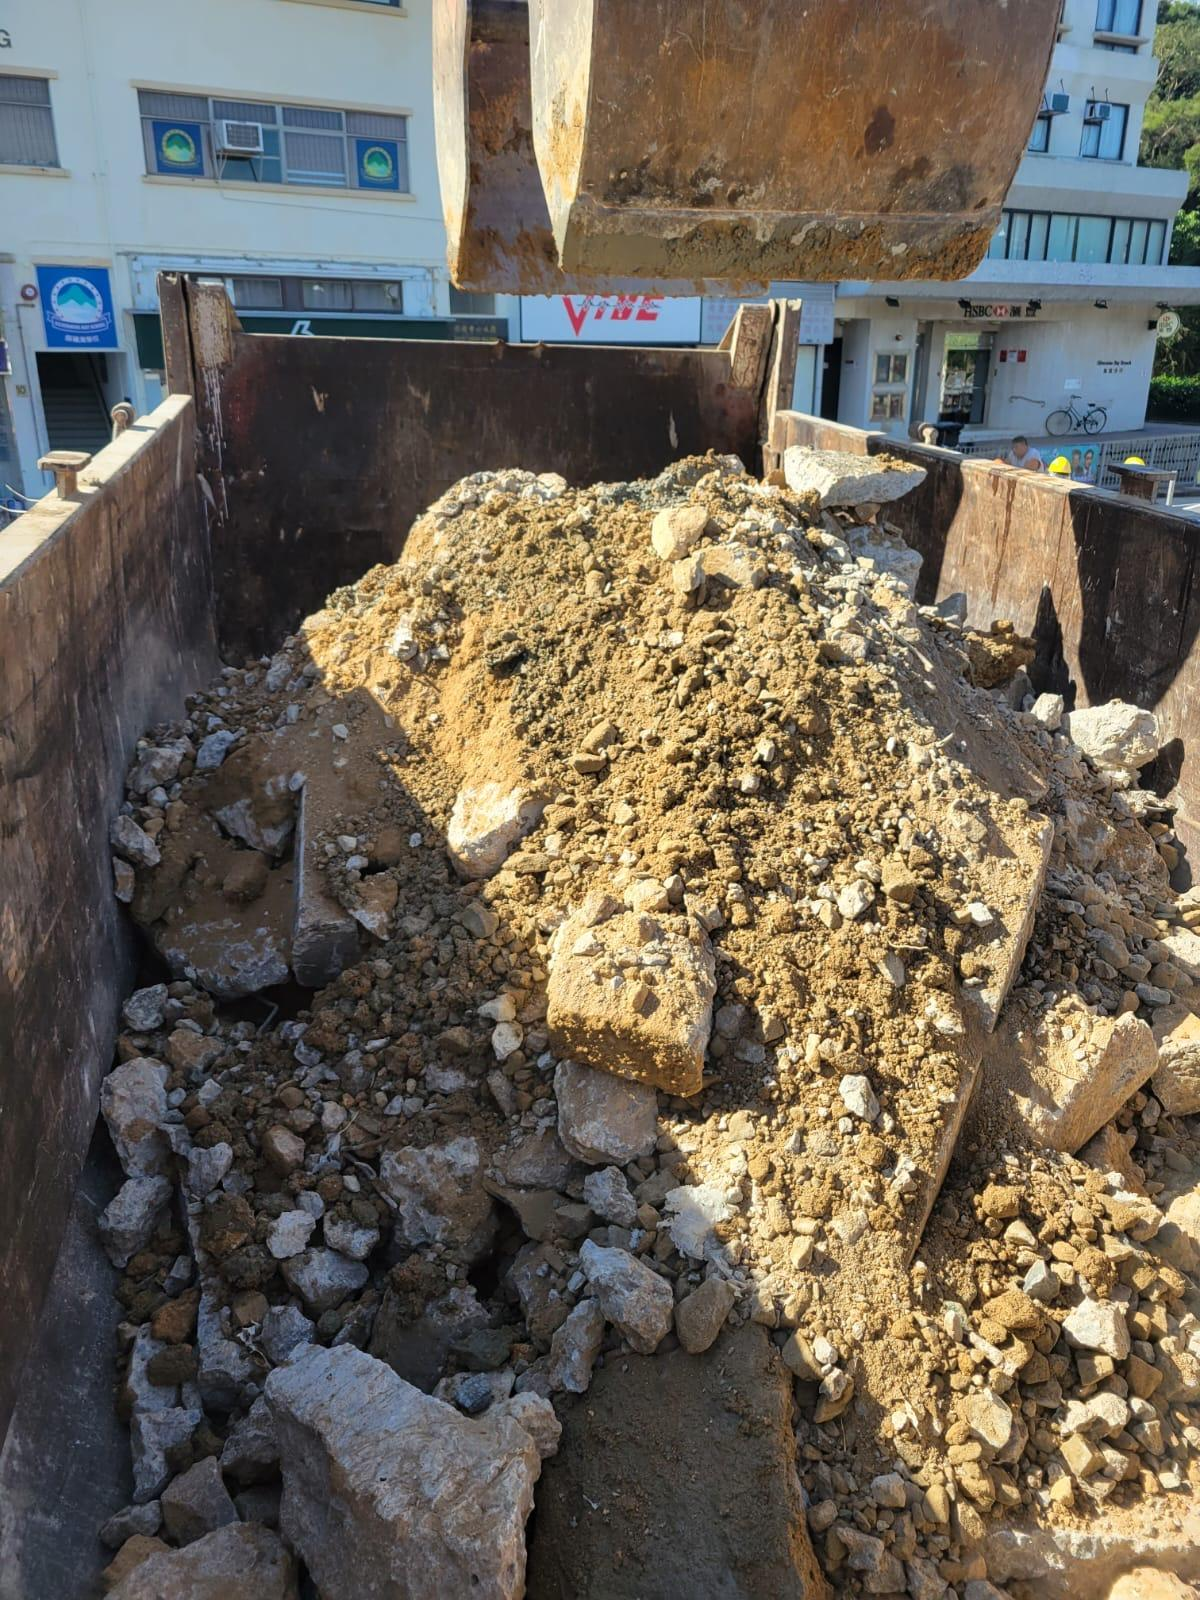dirt: (81, 446, 1197, 1597)
stone: (260, 1339, 551, 1597), (545, 902, 717, 1096), (551, 1057, 659, 1165)
